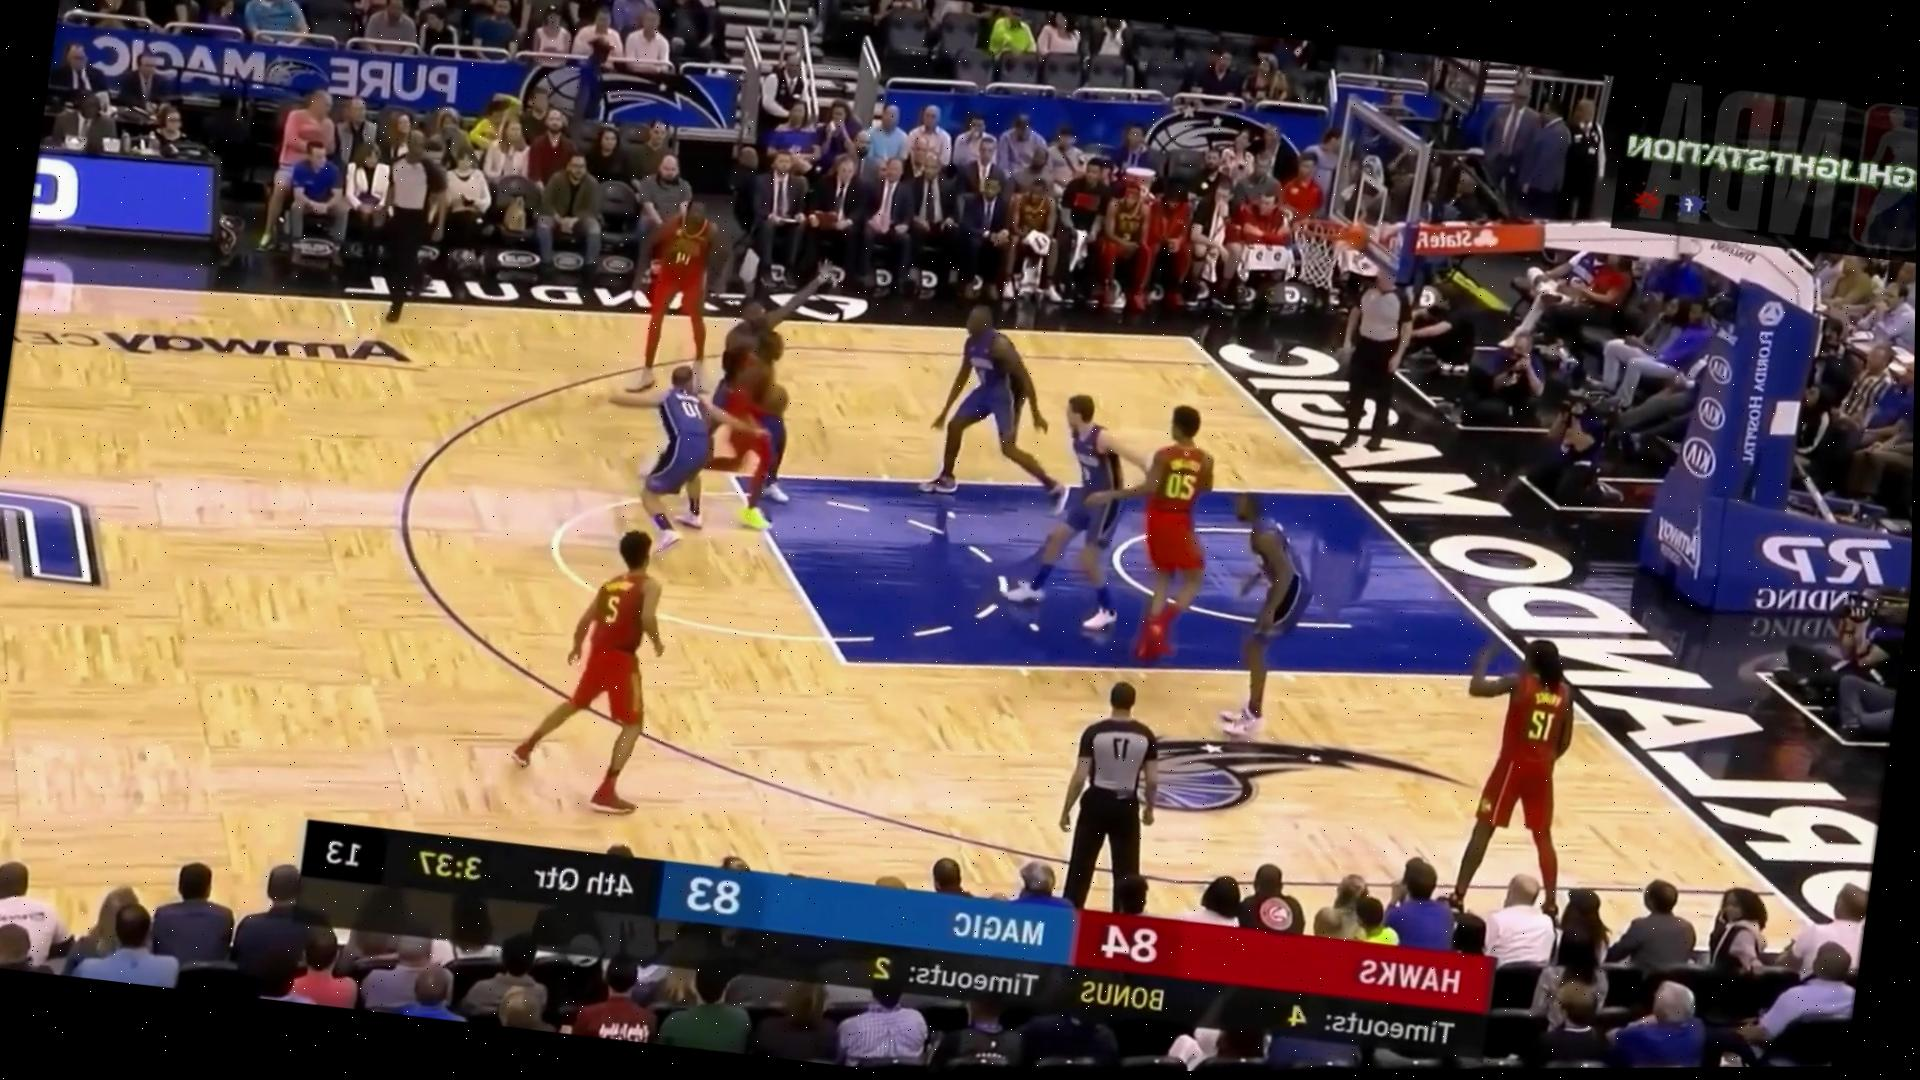no_foul: (1004, 369, 1229, 663)
